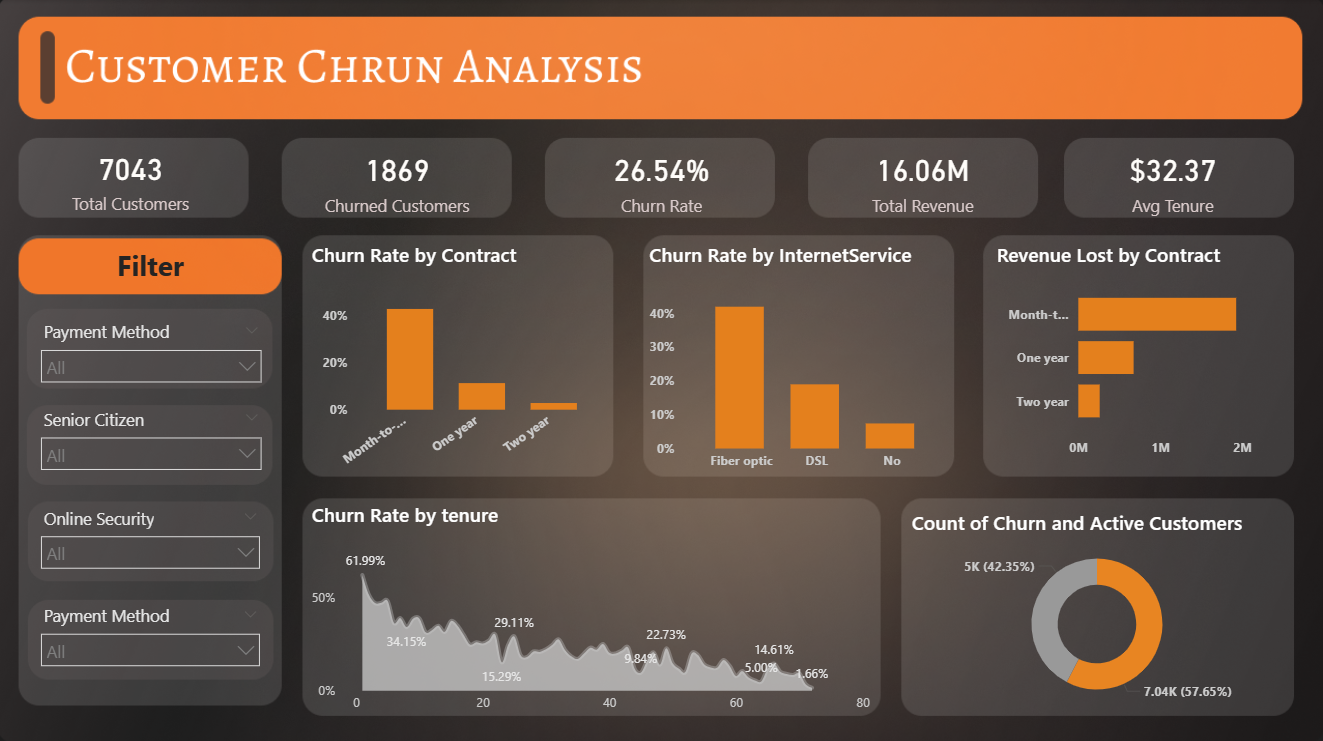

The dashboard page shown, as its layout file describes it:
{"tool":"powerbi","page":{"name":"Executive Overview","canvas":[1280,720],"ordinal":0},"visuals":[{"type":"card","fields":{"Values":["_measure.Total Customers"]},"box":[13.7,131.7,227.8,83.7],"z":0},{"type":"card","fields":{"Values":["_measure.Churned Customers"]},"box":[272.2,132.3,223.5,83.6],"z":1000},{"type":"card","fields":{"Values":["_measure.Churn Rate"]},"box":[518.5,132.3,241.8,83.6],"z":2000},{"type":"card","fields":{"Values":["_measure.Total Revenue"]},"box":[770.9,132.3,241.8,83.6],"z":3000},{"type":"card","fields":{"Values":["_measure.Avg Tenure"]},"box":[1012.7,132.3,241.8,83.6],"z":4000},{"type":"lineStackedColumnComboChart","fields":{"Category":["customer_churn.Contract"],"Y":["_measure.Churn Rate"]},"box":[296.4,234.6,297.8,230.5],"z":5000},{"type":"columnChart","fields":{"Category":["customer_churn.InternetService"],"Y":["_measure.Churn Rate"]},"box":[622,234.2,299,230],"z":6000},{"type":"barChart","title":"Revenue Lost by Contract","fields":{"Category":["customer_churn.Contract"],"Y":["_measure.Revenue Lost (Churned Customers)"]},"box":[958,234.2,285.9,217.4],"z":7000},{"type":"areaChart","fields":{"Category":["customer_churn.tenure"],"Y":["_measure.Churn Rate"]},"box":[296.5,485.1,552,212.9],"z":8000},{"type":"donutChart","fields":{"Y":["CountNonNull(customer_churn.Churn)","_measure.Active Customers"]},"box":[875.8,492.7,368,197.7],"z":9000},{"type":"textbox","box":[30.2,234.6,231.9,46.7],"z":10000},{"type":"slicer","fields":{"Values":["customer_churn.PaymentMethod"]},"box":[30.2,579.1,231.9,76.8],"z":11000},{"type":"slicer","fields":{"Values":["customer_churn.OnlineSecurity"]},"box":[30.2,484.4,231.9,76.8],"z":12000},{"type":"slicer","fields":{"Values":["customer_churn.SeniorCitizen"]},"box":[29.7,389.9,232.9,76],"z":13000},{"type":"slicer","fields":{"Values":["customer_churn.gender"]},"box":[29.7,305.6,232.9,76],"z":14000}]}

Visuals, with their boxes in screenshot pixels (x1, y1, x2, y2), scaled from the page's 1280x720 canvas onto the 1323x741 screenshot:
card - _measure.Total Customers: (14,136,250,222)
card - _measure.Churned Customers: (281,136,512,222)
card - _measure.Churn Rate: (536,136,786,222)
card - _measure.Total Revenue: (797,136,1047,222)
card - _measure.Avg Tenure: (1047,136,1297,222)
lineStackedColumnComboChart - customer_churn.Contract x _measure.Churn Rate: (306,241,614,479)
columnChart - customer_churn.InternetService x _measure.Churn Rate: (643,241,952,478)
"Revenue Lost by Contract" barChart: (990,241,1286,465)
areaChart - customer_churn.tenure x _measure.Churn Rate: (306,499,877,718)
donutChart - CountNonNull(customer_churn.Churn) x _measure.Active Customers: (905,507,1286,711)
textbox: (31,241,271,290)
slicer - customer_churn.PaymentMethod: (31,596,271,675)
slicer - customer_churn.OnlineSecurity: (31,499,271,578)
slicer - customer_churn.SeniorCitizen: (31,401,271,479)
slicer - customer_churn.gender: (31,315,271,393)
